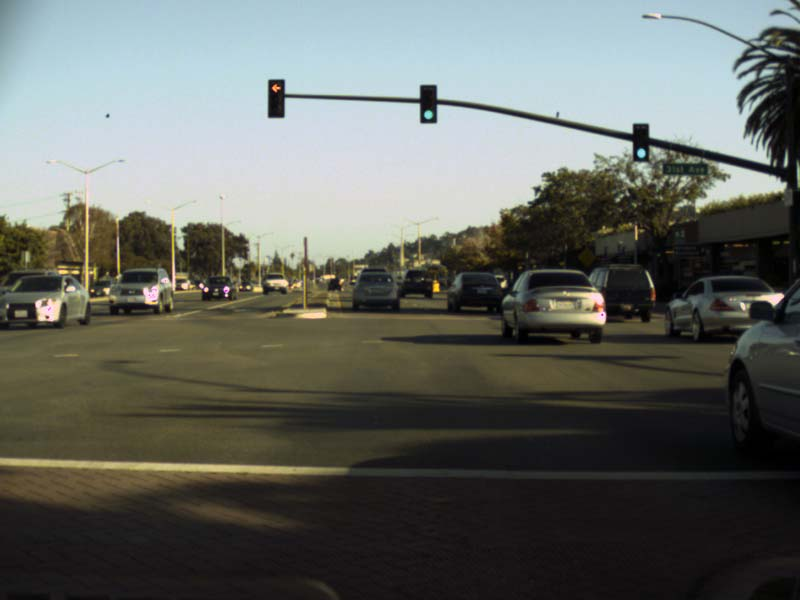Green: (420, 84, 437, 123), (632, 123, 649, 160)
Red: (266, 78, 284, 118)
